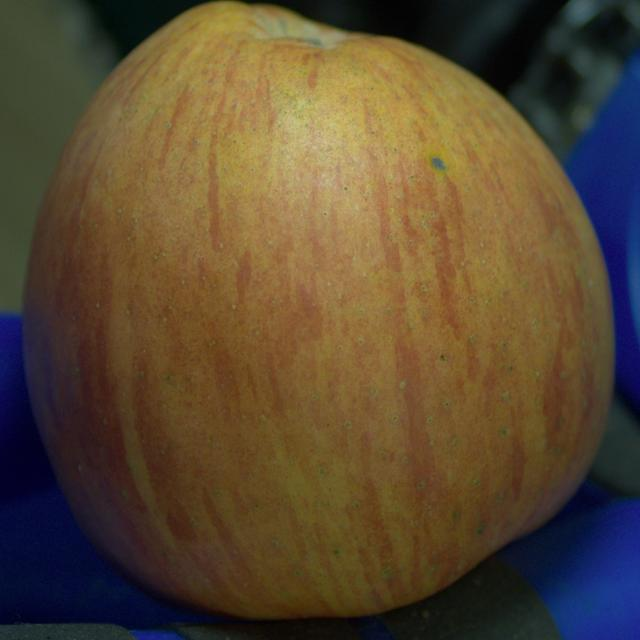apple: (22, 2, 614, 619)
pest: (431, 157, 446, 170)
